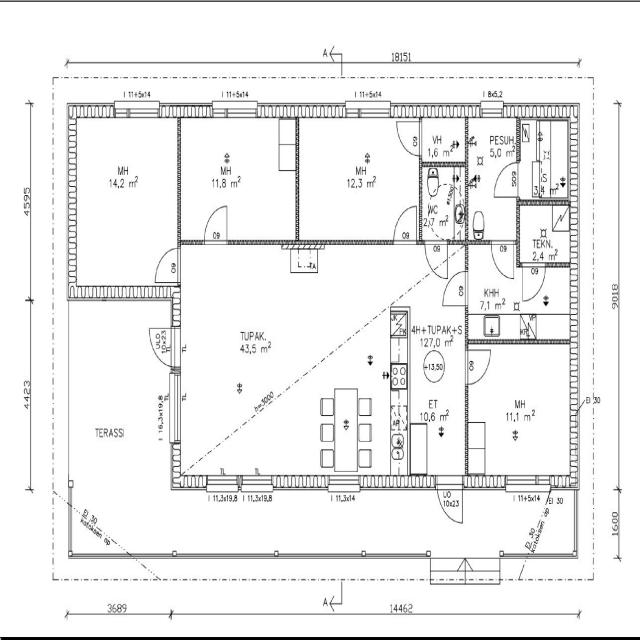door: (145, 328, 181, 367), (437, 476, 463, 528), (425, 240, 448, 280), (494, 162, 521, 196), (491, 240, 514, 279), (204, 206, 227, 245), (465, 350, 491, 384), (155, 248, 180, 282), (443, 271, 468, 305), (523, 263, 545, 301), (397, 122, 422, 155), (394, 207, 416, 244)
